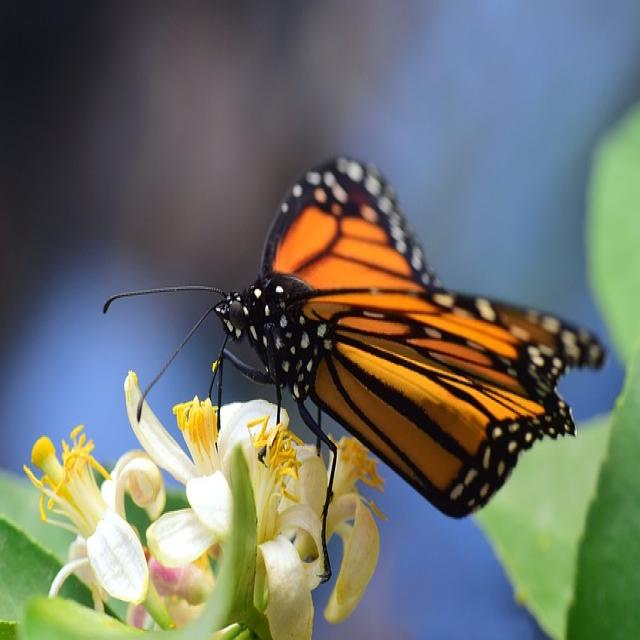butterfly: (104, 157, 605, 519)
